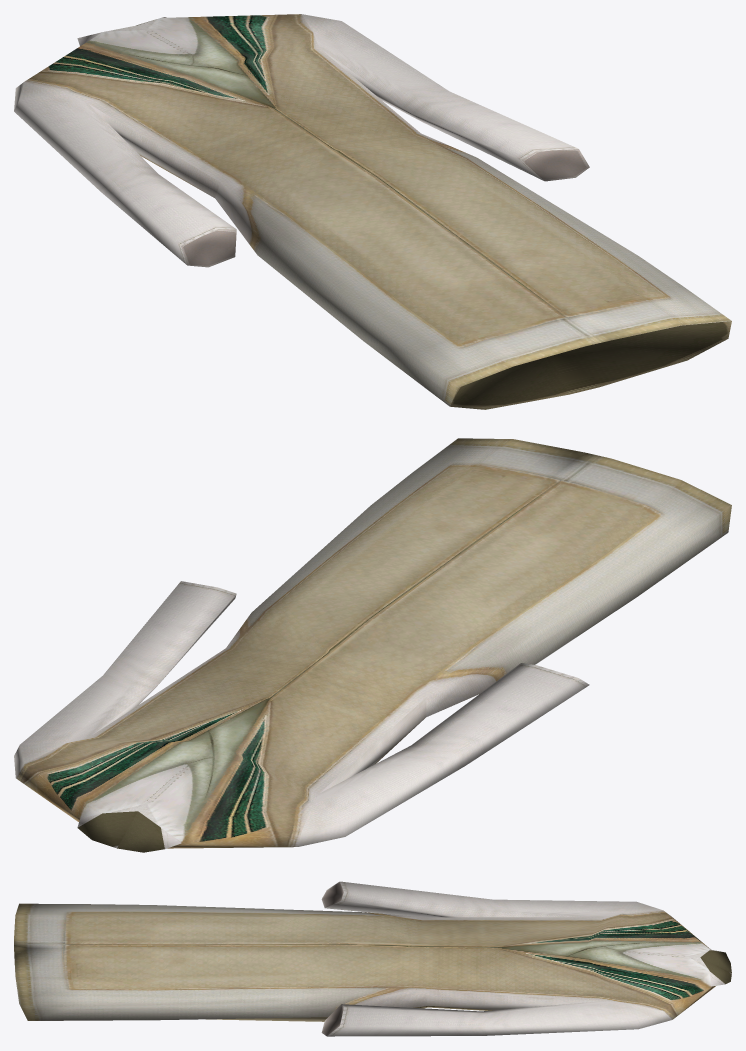
File: m_Torso4.glb
3 renders of one model, top to bottom at view 1: azimuth 30°, elevation 25°; view 2: azimuth 150°, elevation 25°; view 3: azimuth 270°, elevation 25°, orthographic. The views are drawn at different scales.
Parts seen in each view (by area): view 1: Torso4; view 2: Torso4; view 3: Torso4.
Boxes of the visible parts, bbox=[...] form: Torso4: bbox=[14, 14, 731, 409]; Torso4: bbox=[14, 438, 731, 852]; Torso4: bbox=[14, 881, 731, 1036].
Size of the model in its own units: 33.75 by 4.65 by 69.91.
1 material, 1 textured.
